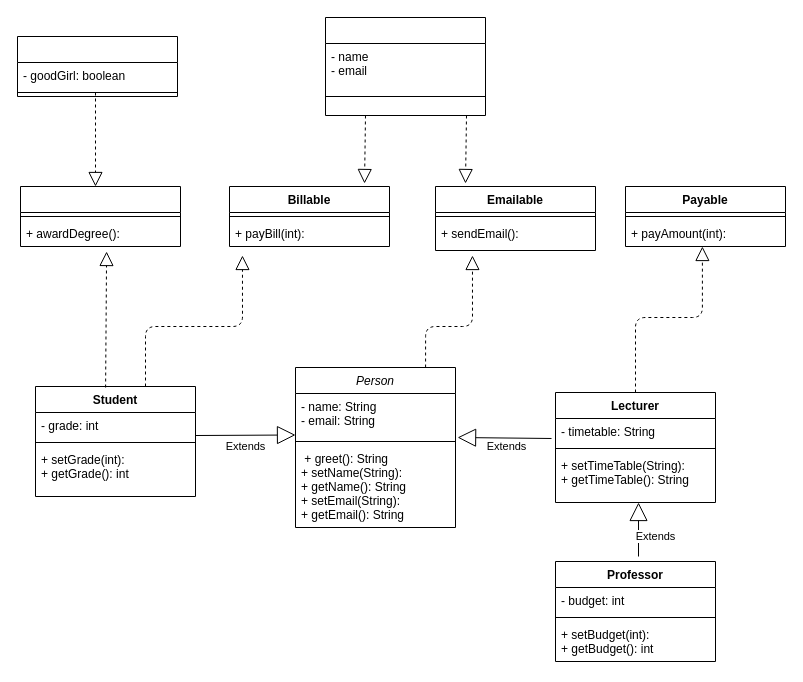
Image size: 803x682. Some labels were removed from this diagram. Each missing label, with the box of its shape:
Degreeable: (20, 186, 180, 246)
Dog: (16, 36, 178, 96)
Research Council: (324, 16, 486, 116)
